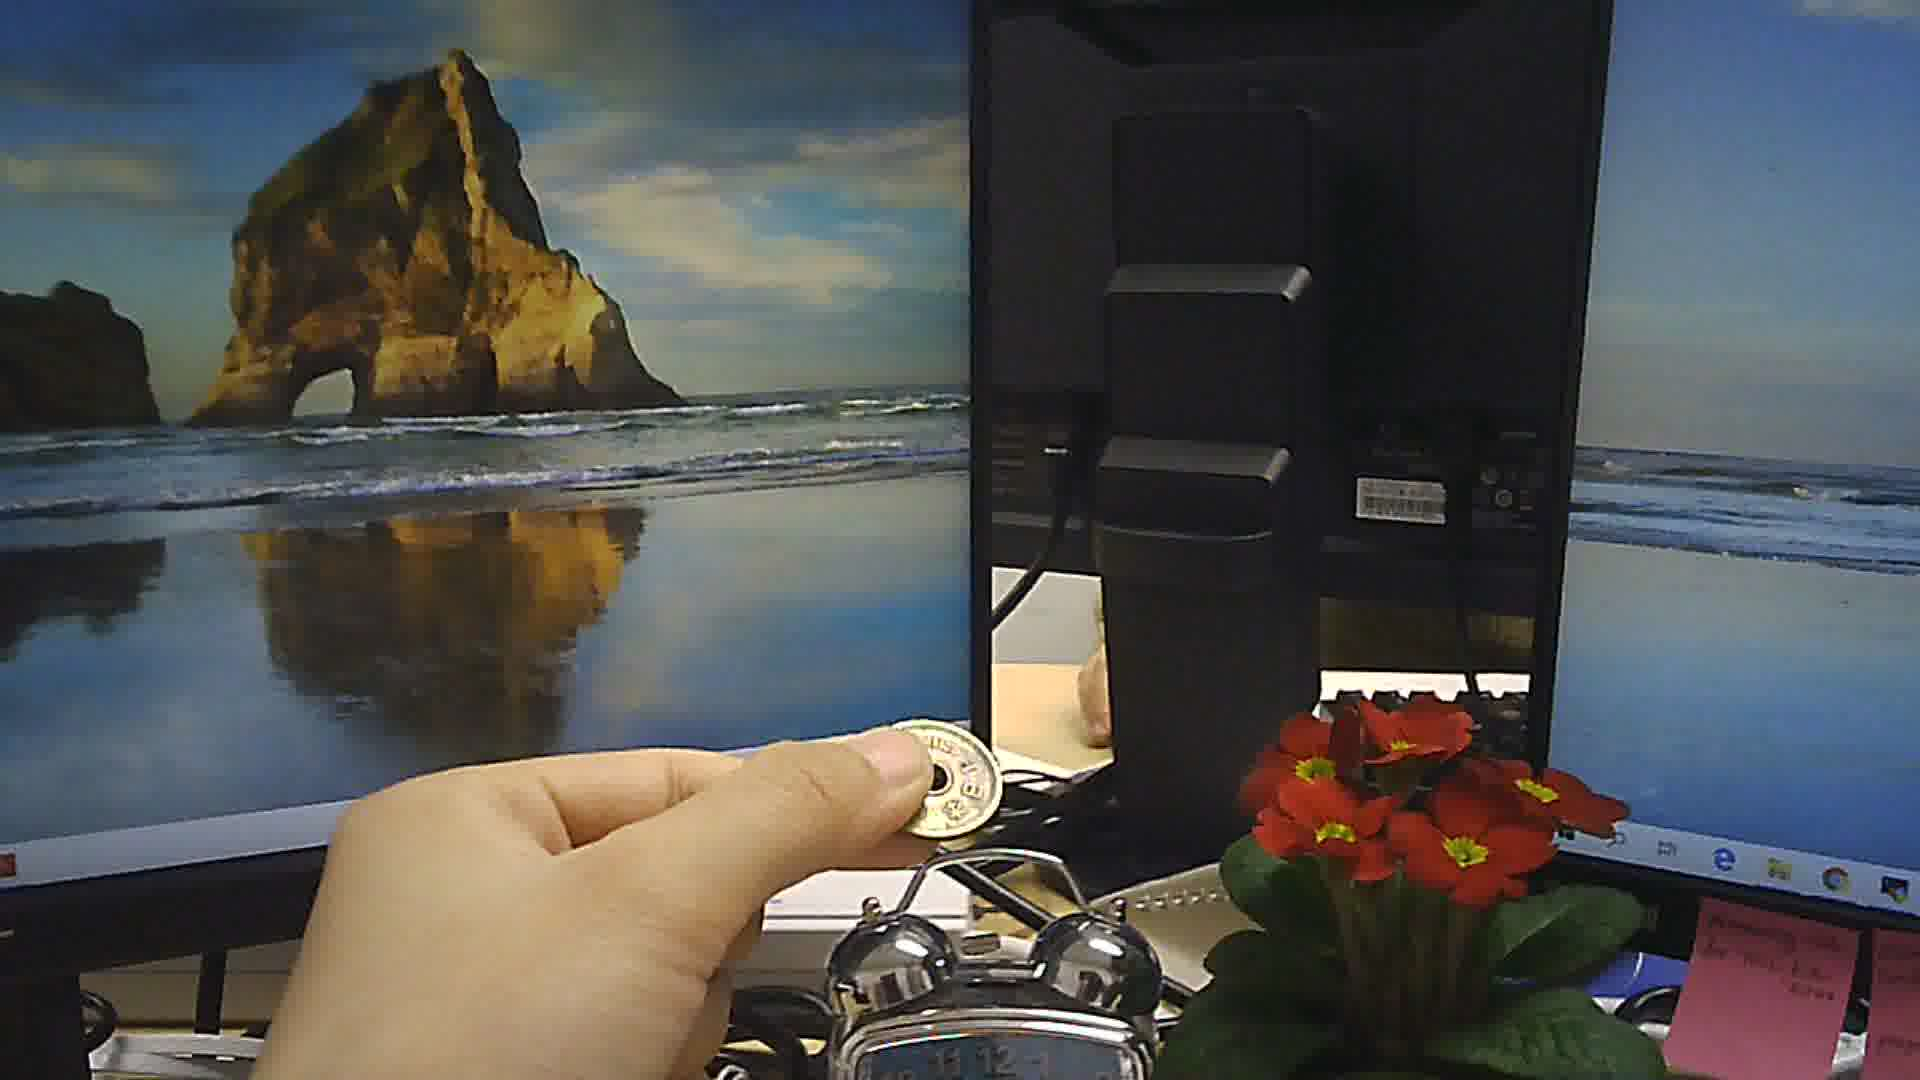5 Yen: (861, 712, 1010, 844)
